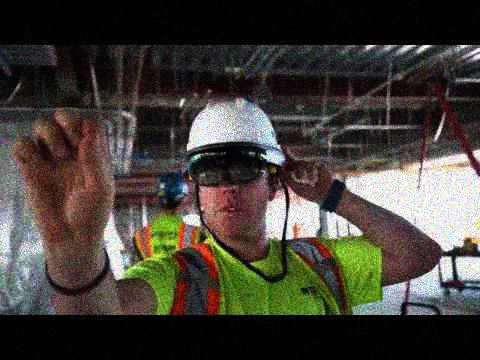helmet: (186, 99, 289, 237)
